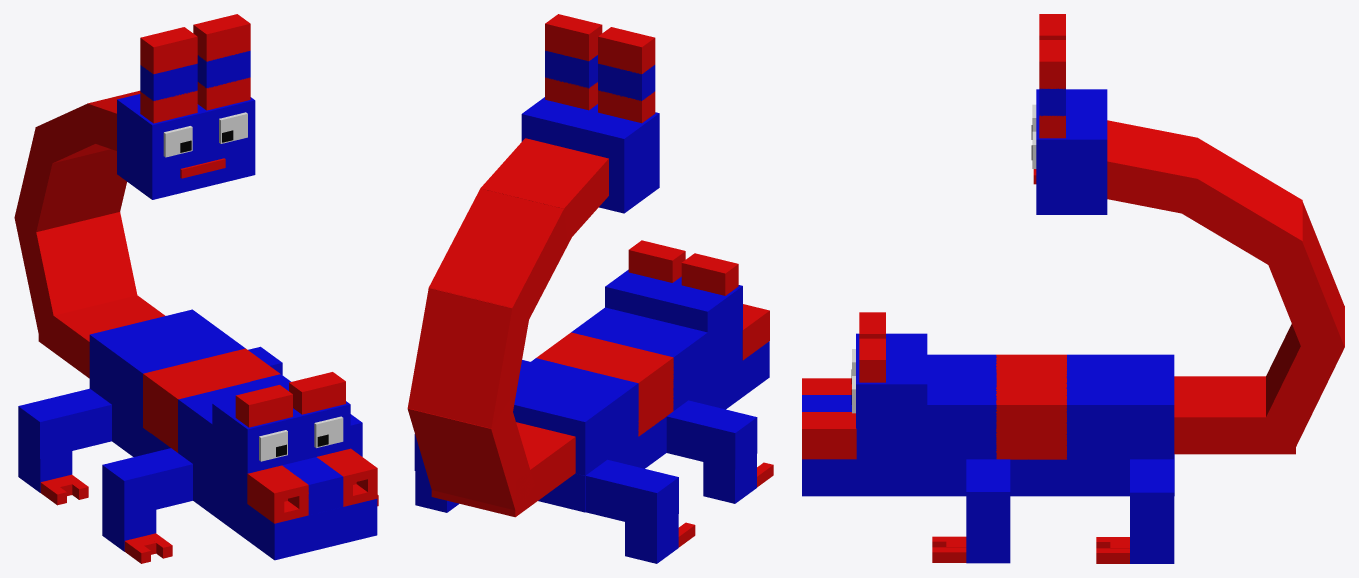
3 renders of one model, left to right at view 1: azimuth 30°, elevation 25°; view 2: azimuth 150°, elevation 25°; view 3: azimuth 270°, elevation 25°, orthographic.
Visible parts, largest first — view 1: pCube908, pCube2953, pCube306, pCube909, pCube291, pCube290, pCube305, pCube322, pCube311, pCube316, pCube304, pCube294 (+24 smaller); view 2: pCube909, pCube911, pCube306, pCube908, pCube2953, pCube291, pCube910, pCube305, pCube304, pCube322, pCube311, pCube316 (+15 smaller); view 3: pCube306, pCube911, pCube2953, pCube291, pCube305, pCube304, pCube316, pCube910, pCube908, pCube909, pCube290, pCube327 (+13 smaller).
Part boxes in pixels (x1,y1,x2,y2): pCube908: [14, 212, 137, 337]; pCube2953: [117, 94, 255, 199]; pCube306: [89, 309, 245, 427]; pCube909: [14, 127, 126, 240]; pCube291: [212, 385, 350, 503]; pCube290: [212, 478, 377, 560]; pCube305: [143, 348, 280, 452]; pCube322: [18, 388, 111, 458]; pCube311: [102, 448, 192, 517]; pCube316: [38, 295, 165, 378]; pCube304: [178, 374, 290, 477]; pCube294: [247, 465, 308, 523]; pCube909: [407, 287, 531, 428]; pCube911: [428, 188, 574, 329]; pCube306: [513, 358, 638, 475]; pCube908: [407, 401, 534, 510]; pCube2953: [521, 97, 659, 213]; pCube291: [605, 269, 742, 385]; pCube910: [480, 138, 608, 241]; pCube305: [536, 332, 673, 436]; pCube304: [571, 307, 708, 410]; pCube322: [585, 459, 678, 529]; pCube311: [666, 400, 757, 469]; pCube316: [431, 422, 575, 517]; pCube306: [1066, 354, 1174, 459]; pCube911: [1176, 138, 1302, 271]; pCube2953: [1036, 89, 1107, 214]; pCube291: [856, 333, 927, 459]; pCube305: [996, 354, 1066, 459]; pCube304: [925, 354, 996, 459]; pCube316: [1174, 376, 1295, 454]; pCube910: [1107, 120, 1197, 214]; pCube908: [1257, 306, 1344, 450]; pCube909: [1264, 202, 1344, 352]; pCube290: [802, 459, 927, 496]; pCube327: [1130, 459, 1174, 529].
Bounding box in the file's own units: 8.59 × 15.62 × 16.54.
